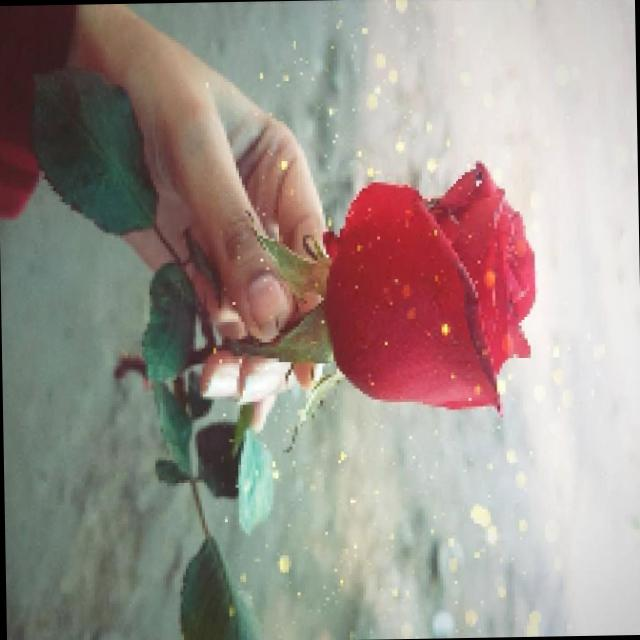Nail: (248, 272, 289, 324), (236, 367, 277, 404), (205, 363, 237, 398)
